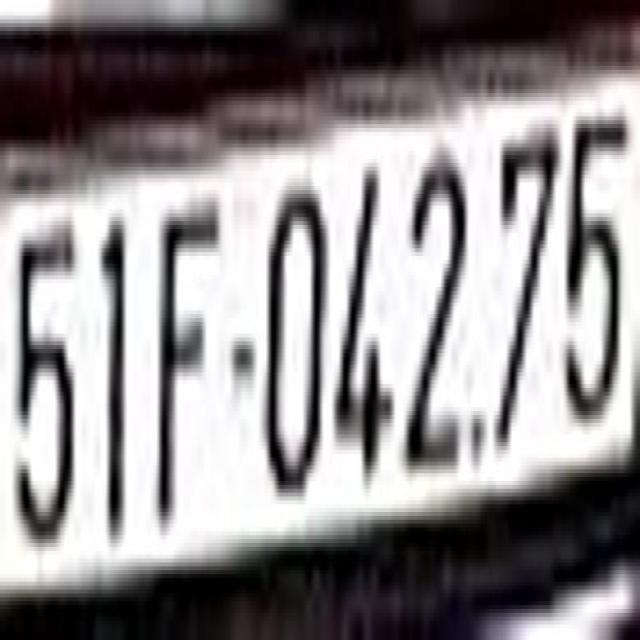0: (264, 163, 325, 496)
1: (97, 237, 134, 550)
2: (401, 151, 470, 473)
4: (336, 171, 386, 488)
5: (14, 217, 74, 559), (568, 105, 629, 419)
7: (489, 120, 559, 454)
F: (155, 198, 231, 539)
